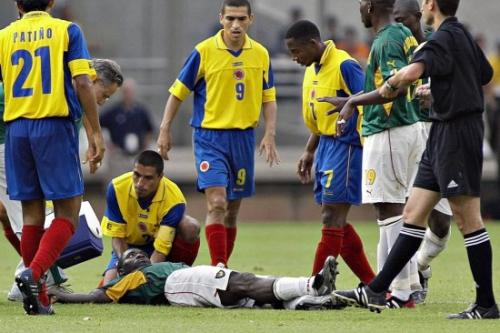fall: (25, 242, 354, 310)
